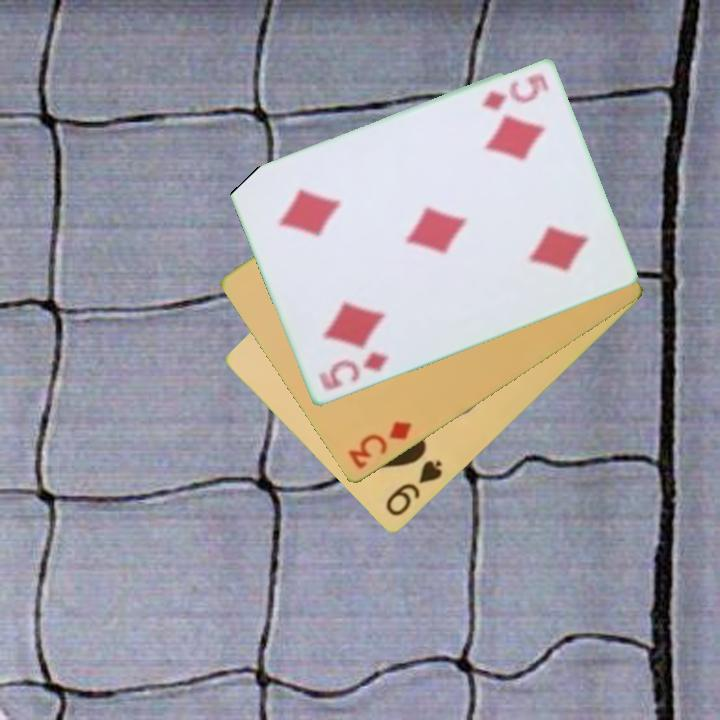3d: (344, 418, 415, 473)
5d: (315, 349, 392, 395), (477, 70, 552, 114)
9s: (382, 457, 446, 520)
